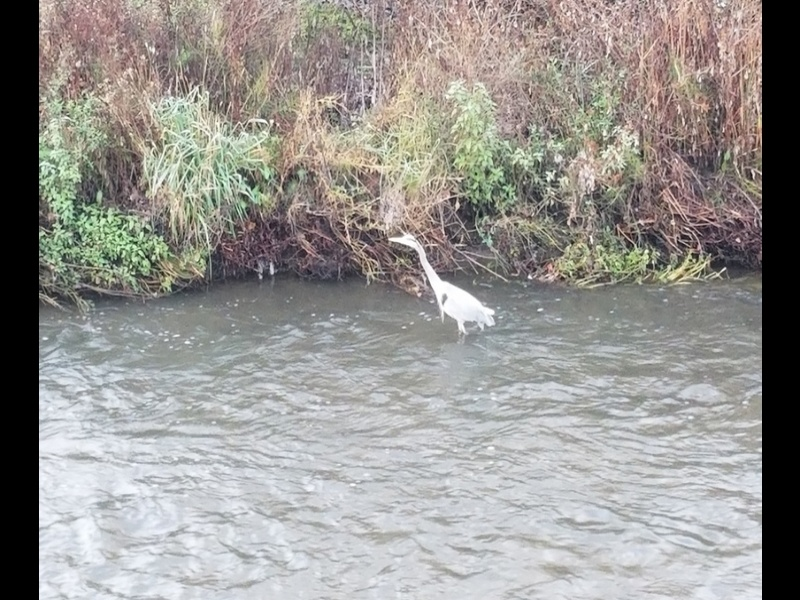heron: (386, 230, 496, 333)
